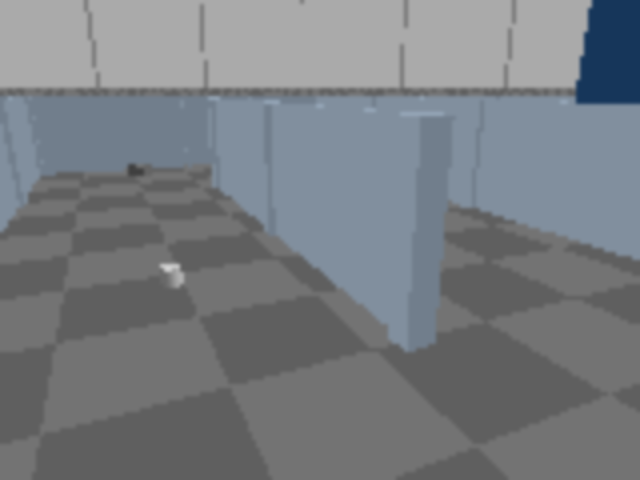obstacle: (126, 163, 153, 178)
person: (570, 0, 638, 229)
puck: (162, 263, 181, 288)
